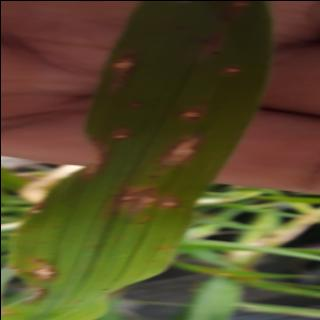Blast: (105, 174, 186, 223), (153, 108, 220, 166)
